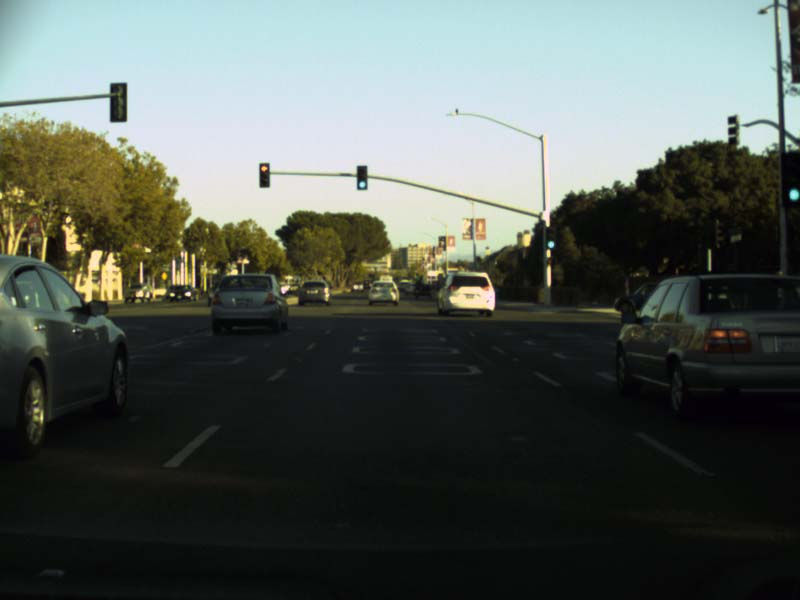Green: (545, 226, 555, 249), (356, 165, 366, 187)
Red: (259, 163, 269, 187)
